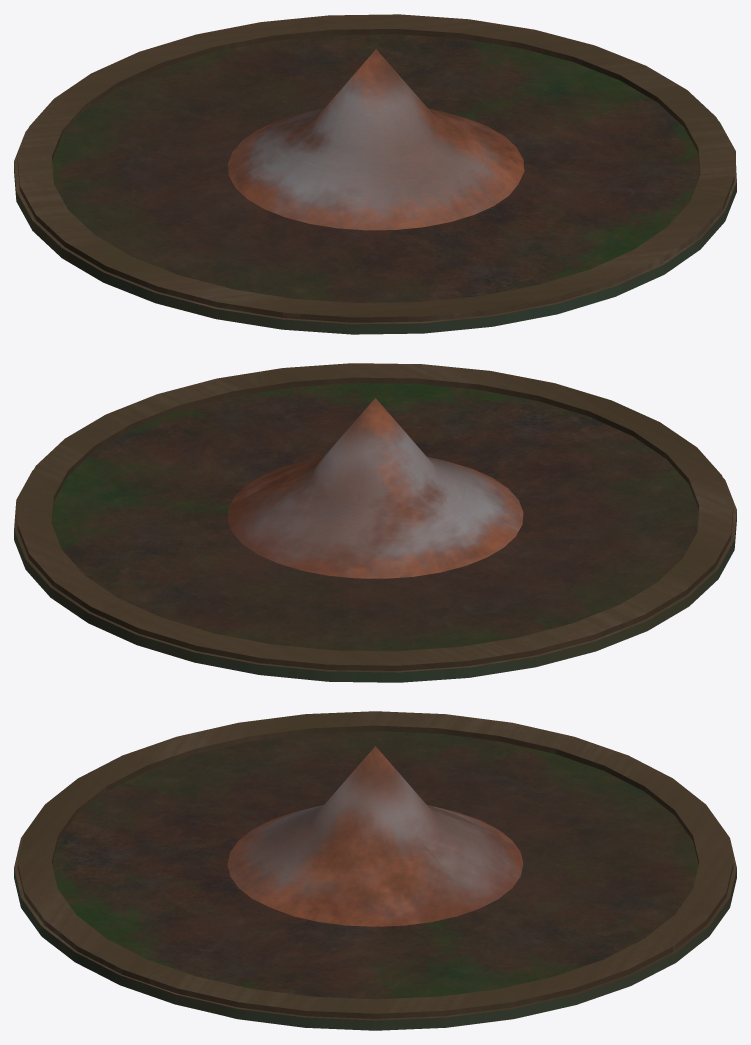
File: SpikedShield.fbx
3 views of the same model, one above another, from view 1: azimuth 30°, elevation 25°; view 2: azimuth 150°, elevation 25°; view 3: azimuth 270°, elevation 25° (orthographic).
Visible parts, largest first — view 1: SpikedShield; view 2: SpikedShield; view 3: SpikedShield.
Boxes of the visible parts, bbox=[...] form: SpikedShield: bbox=[14, 14, 736, 334]; SpikedShield: bbox=[14, 363, 736, 682]; SpikedShield: bbox=[14, 711, 736, 1030].
Size of the model in its own units: 1000 by 201 by 1000.
1 material, 1 textured.
